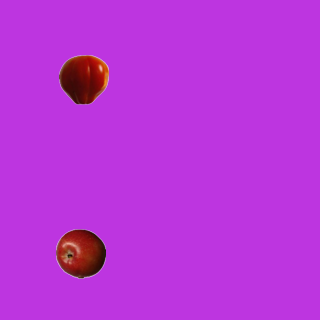Apple Braeburn: (55, 228, 105, 278)
Tomato 1: (58, 54, 108, 104)
